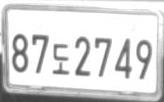2: (74, 36, 91, 76)
4: (114, 37, 132, 78)
7: (31, 33, 49, 73), (95, 37, 112, 77)
8: (11, 33, 28, 73)
9: (135, 39, 152, 80)
도: (52, 43, 69, 75)
